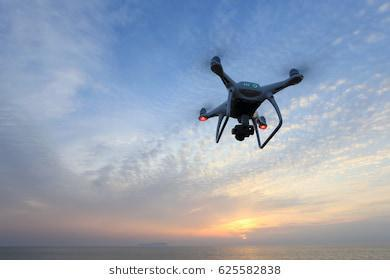drone: (198, 54, 304, 150)
